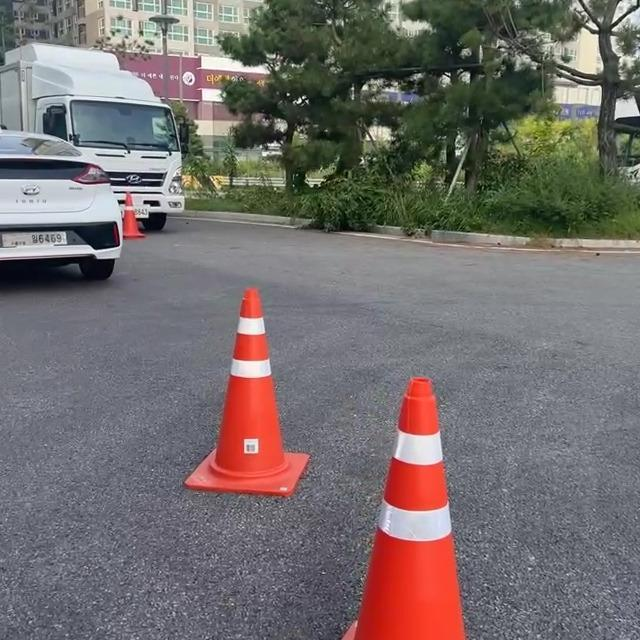fallen_object: (288, 324, 494, 640), (187, 277, 320, 497), (93, 167, 178, 280)
